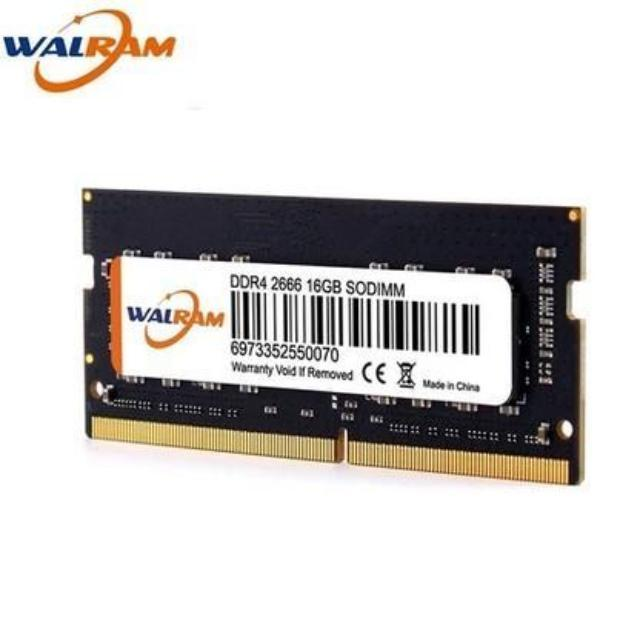RAM: (70, 180, 592, 492)
